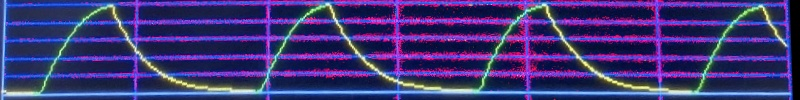normal_volume: (0, 0, 784, 97)
